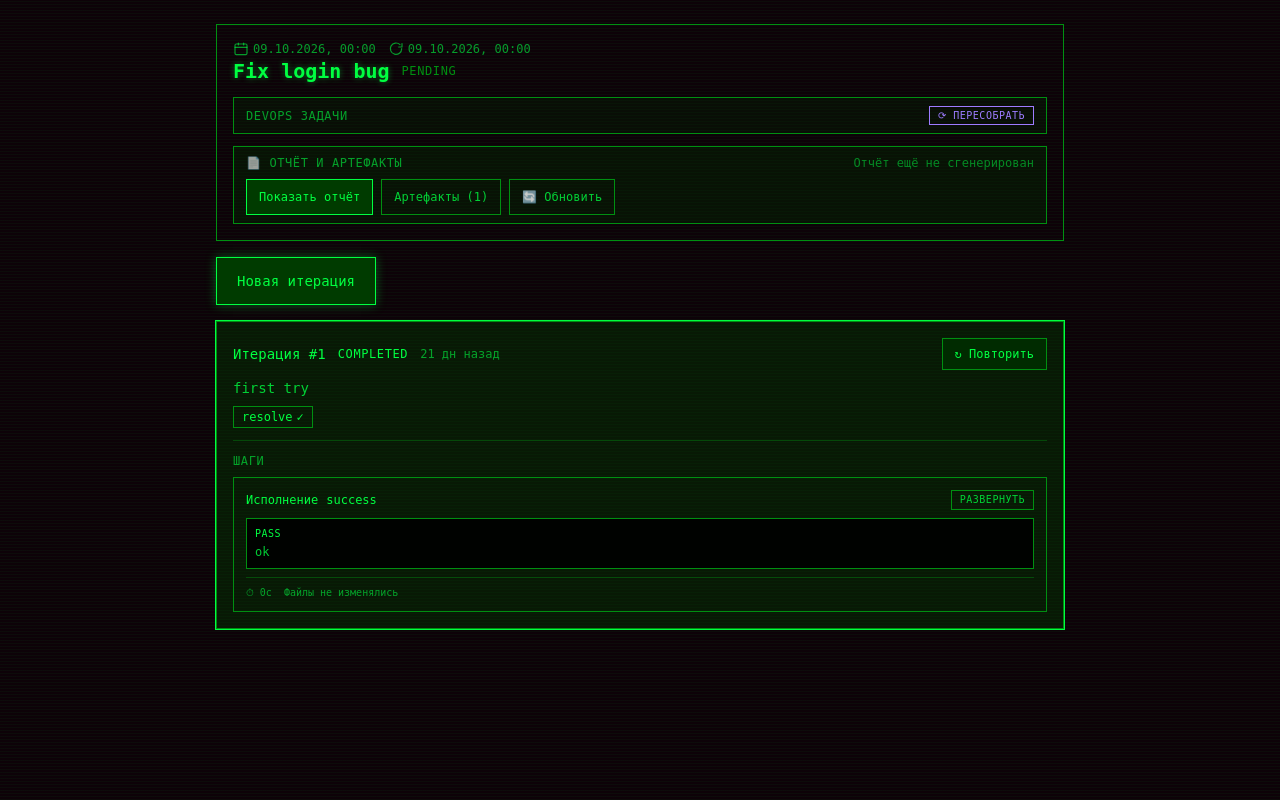
Scenario: TaskDetail — порождённые файлы отчёта › ссылка архива в модалке артефактов ведёт на /result/files/archive
This screenshot has width=1280, height=800.
Expected: the heading "Fix login bug" is shown, x1=233 y1=57 x2=390 y2=85
Click the button with test id "open-artifacts".
click(441, 197)  # box x1=381 y1=179 x2=501 y2=215
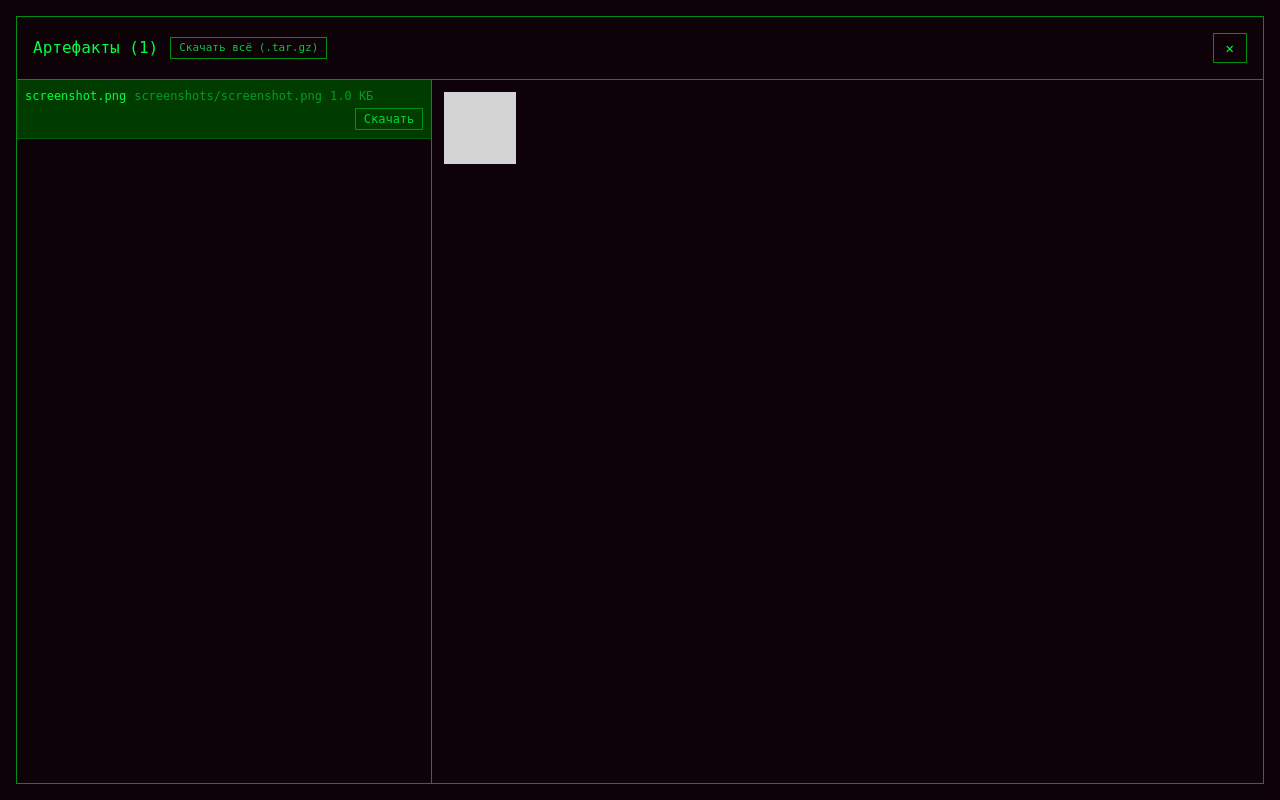
Expected: the link with test id "artifacts-modal-download-archive" reads "Скачать всё (.tar.gz)", x1=170 y1=37 x2=327 y2=59
